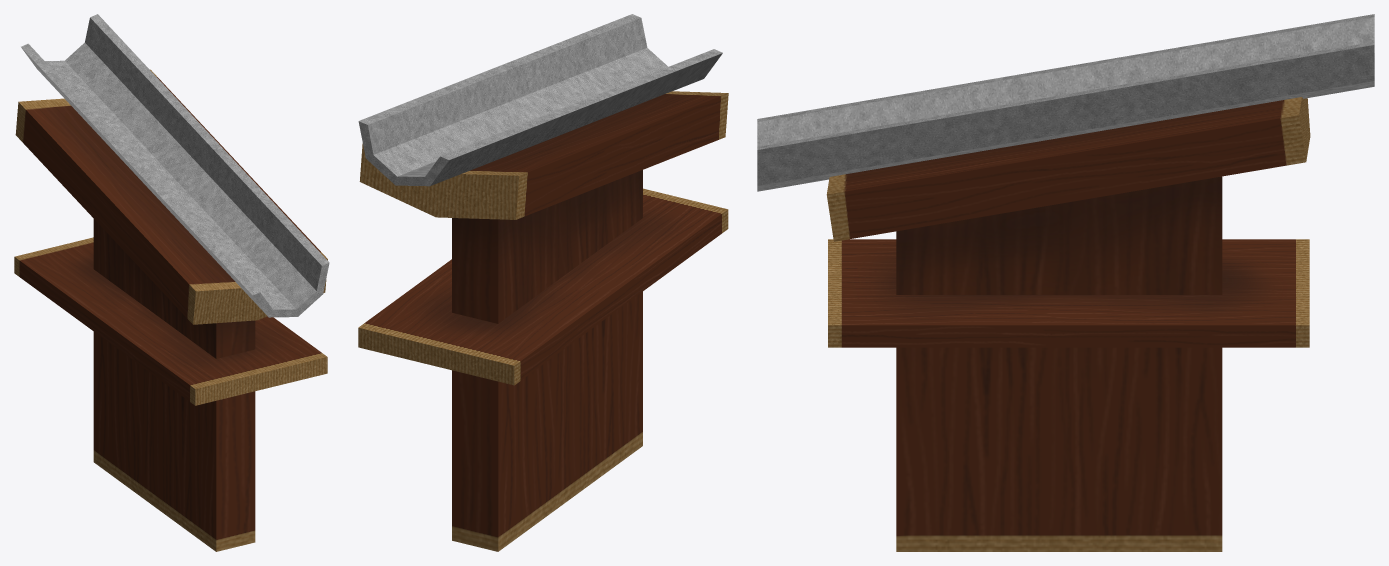
Rendered from Jack_new.fbx.
3 renders of one model, left to right at view 1: azimuth 30°, elevation 25°; view 2: azimuth 150°, elevation 25°; view 3: azimuth 270°, elevation 25°, orthographic. The views are drawn at different scales.
Parts seen in each view (by area): view 1: Jack_pipe, Jack_cube, Jack_pipe_base, Jack_base; view 2: Jack_cube, Jack_pipe, Jack_base, Jack_pipe_base; view 3: Jack_cube, Jack_pipe, Jack_base, Jack_pipe_base.
Part boxes in pixels (x1,y1,x2,y2): Jack_pipe: (21, 14, 329, 317); Jack_cube: (93, 219, 255, 551); Jack_pipe_base: (15, 69, 327, 324); Jack_base: (14, 237, 327, 405); Jack_cube: (452, 170, 642, 551); Jack_pipe: (358, 14, 722, 186); Jack_base: (358, 188, 728, 385); Jack_pipe_base: (359, 91, 728, 219); Jack_cube: (896, 176, 1222, 551); Jack_pipe: (757, 14, 1374, 191); Jack_base: (828, 239, 1309, 347); Jack_pipe_base: (826, 97, 1310, 241).
Size of the model in its own units: 1 by 2.83 by 3.04.
